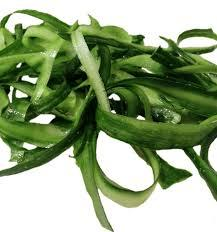Organic: (3, 5, 217, 232)
